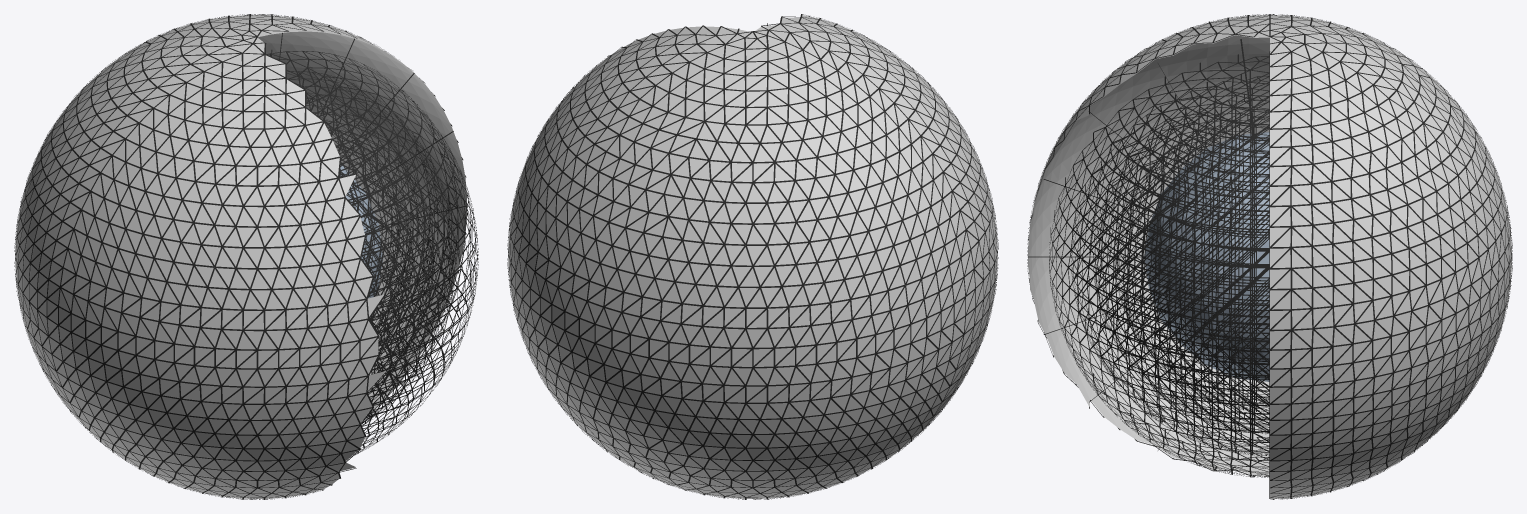
File: ReducedGaussian_grid_3D_cutaway.glb
3 views of the same model, side by side, from view 1: azimuth 30°, elevation 25°; view 2: azimuth 150°, elevation 25°; view 3: azimuth 270°, elevation 25° (orthographic).
Size of the model in its own units: 1 by 1 by 1.
